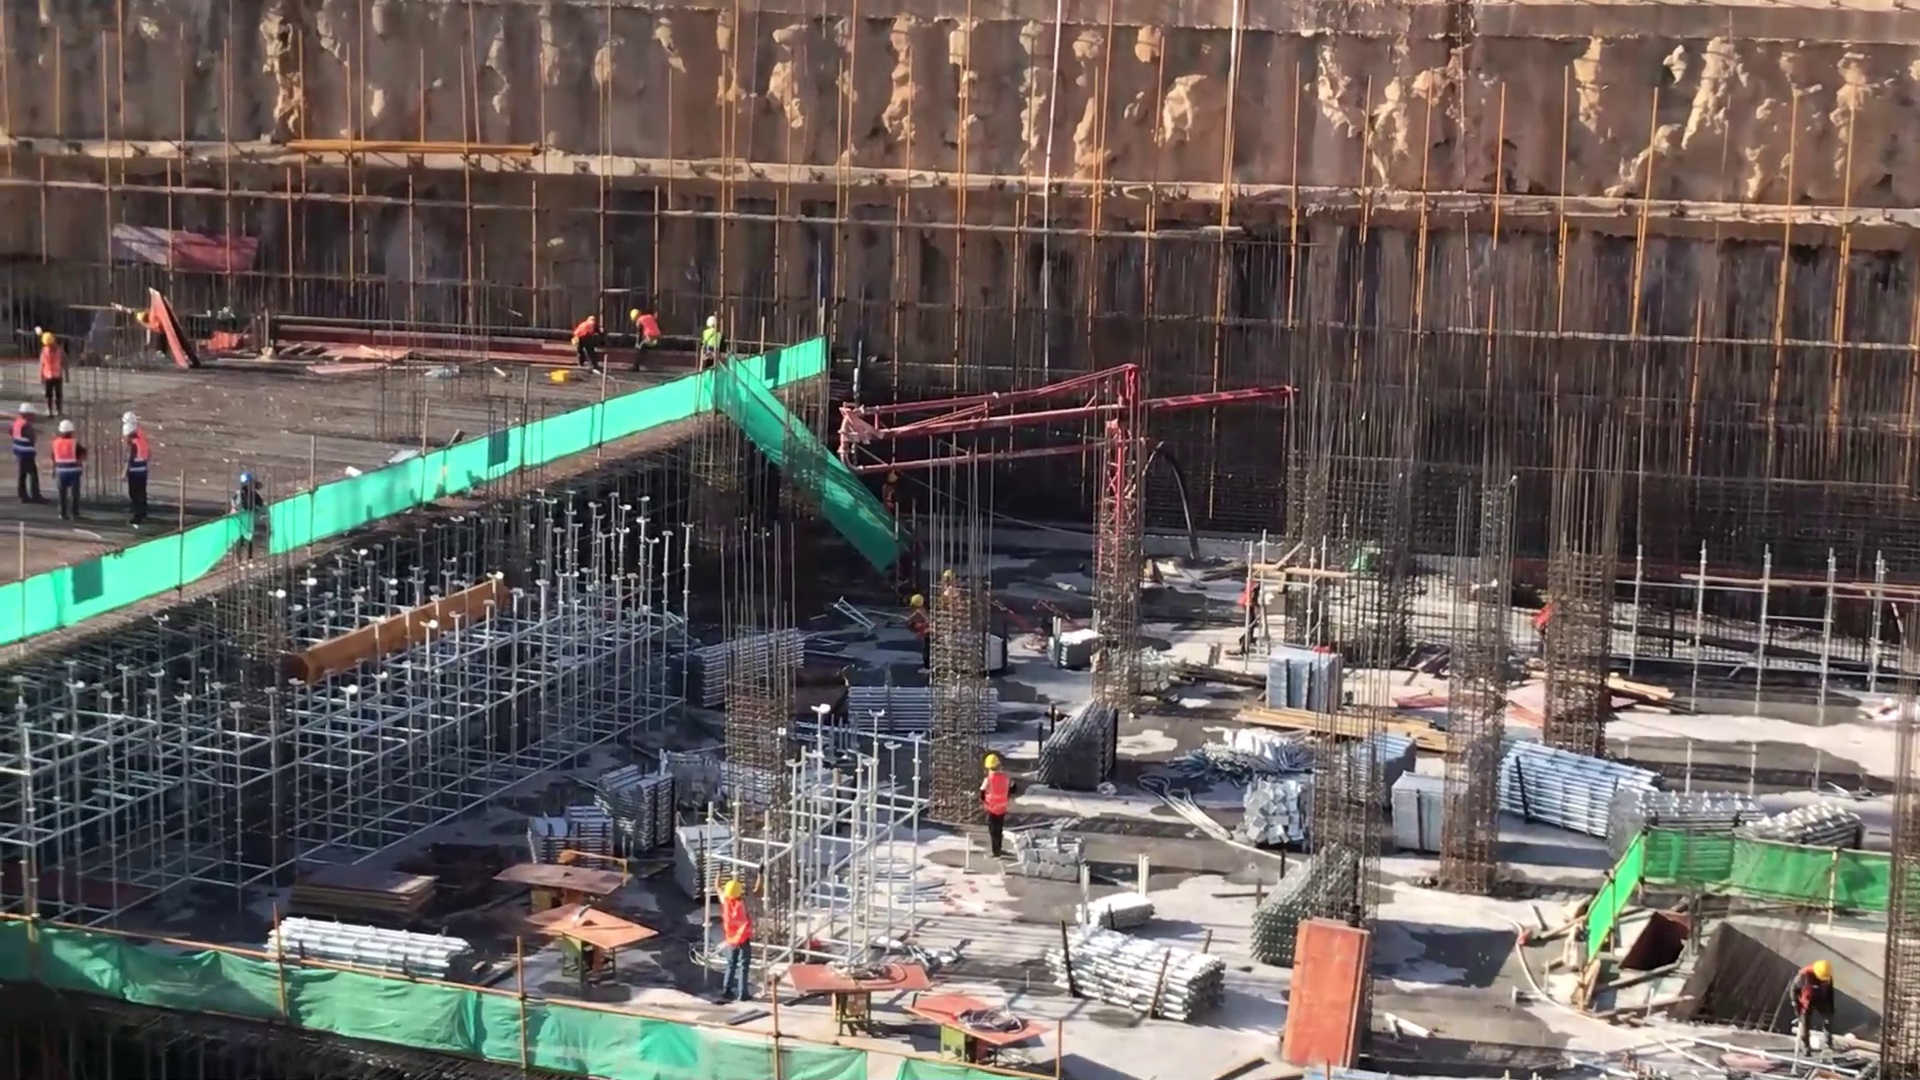cutter: (786, 933, 929, 1036), (905, 981, 1043, 1074), (522, 902, 662, 993), (498, 847, 629, 924)
helmet: (115, 408, 142, 441), (1808, 959, 1837, 987), (720, 878, 748, 906), (52, 415, 80, 439), (976, 751, 1007, 772), (37, 326, 58, 350), (14, 399, 38, 421), (583, 309, 601, 333), (701, 314, 722, 332), (909, 590, 927, 609), (629, 303, 642, 325)
person: (710, 857, 764, 1010), (41, 409, 98, 528), (1785, 952, 1846, 1059), (968, 748, 1021, 870), (113, 404, 162, 534), (32, 320, 76, 421), (10, 400, 46, 509), (623, 299, 665, 376), (566, 308, 611, 379), (902, 590, 938, 673), (691, 311, 728, 375)
scaffold: (1043, 920, 1232, 1031), (1494, 734, 1672, 841), (250, 905, 479, 986), (1600, 784, 1769, 869), (671, 628, 813, 699), (1032, 700, 1128, 802), (590, 759, 678, 856), (1733, 794, 1869, 855), (1250, 860, 1318, 980), (839, 673, 938, 749), (1260, 639, 1349, 716), (1383, 766, 1456, 857), (524, 803, 613, 874)
vest: (715, 898, 758, 948), (45, 438, 88, 487), (1796, 962, 1836, 1015), (980, 773, 1012, 820), (125, 434, 153, 486), (8, 419, 38, 461), (636, 311, 663, 349), (38, 349, 65, 388), (572, 319, 598, 346), (910, 615, 933, 642), (702, 331, 723, 359)
